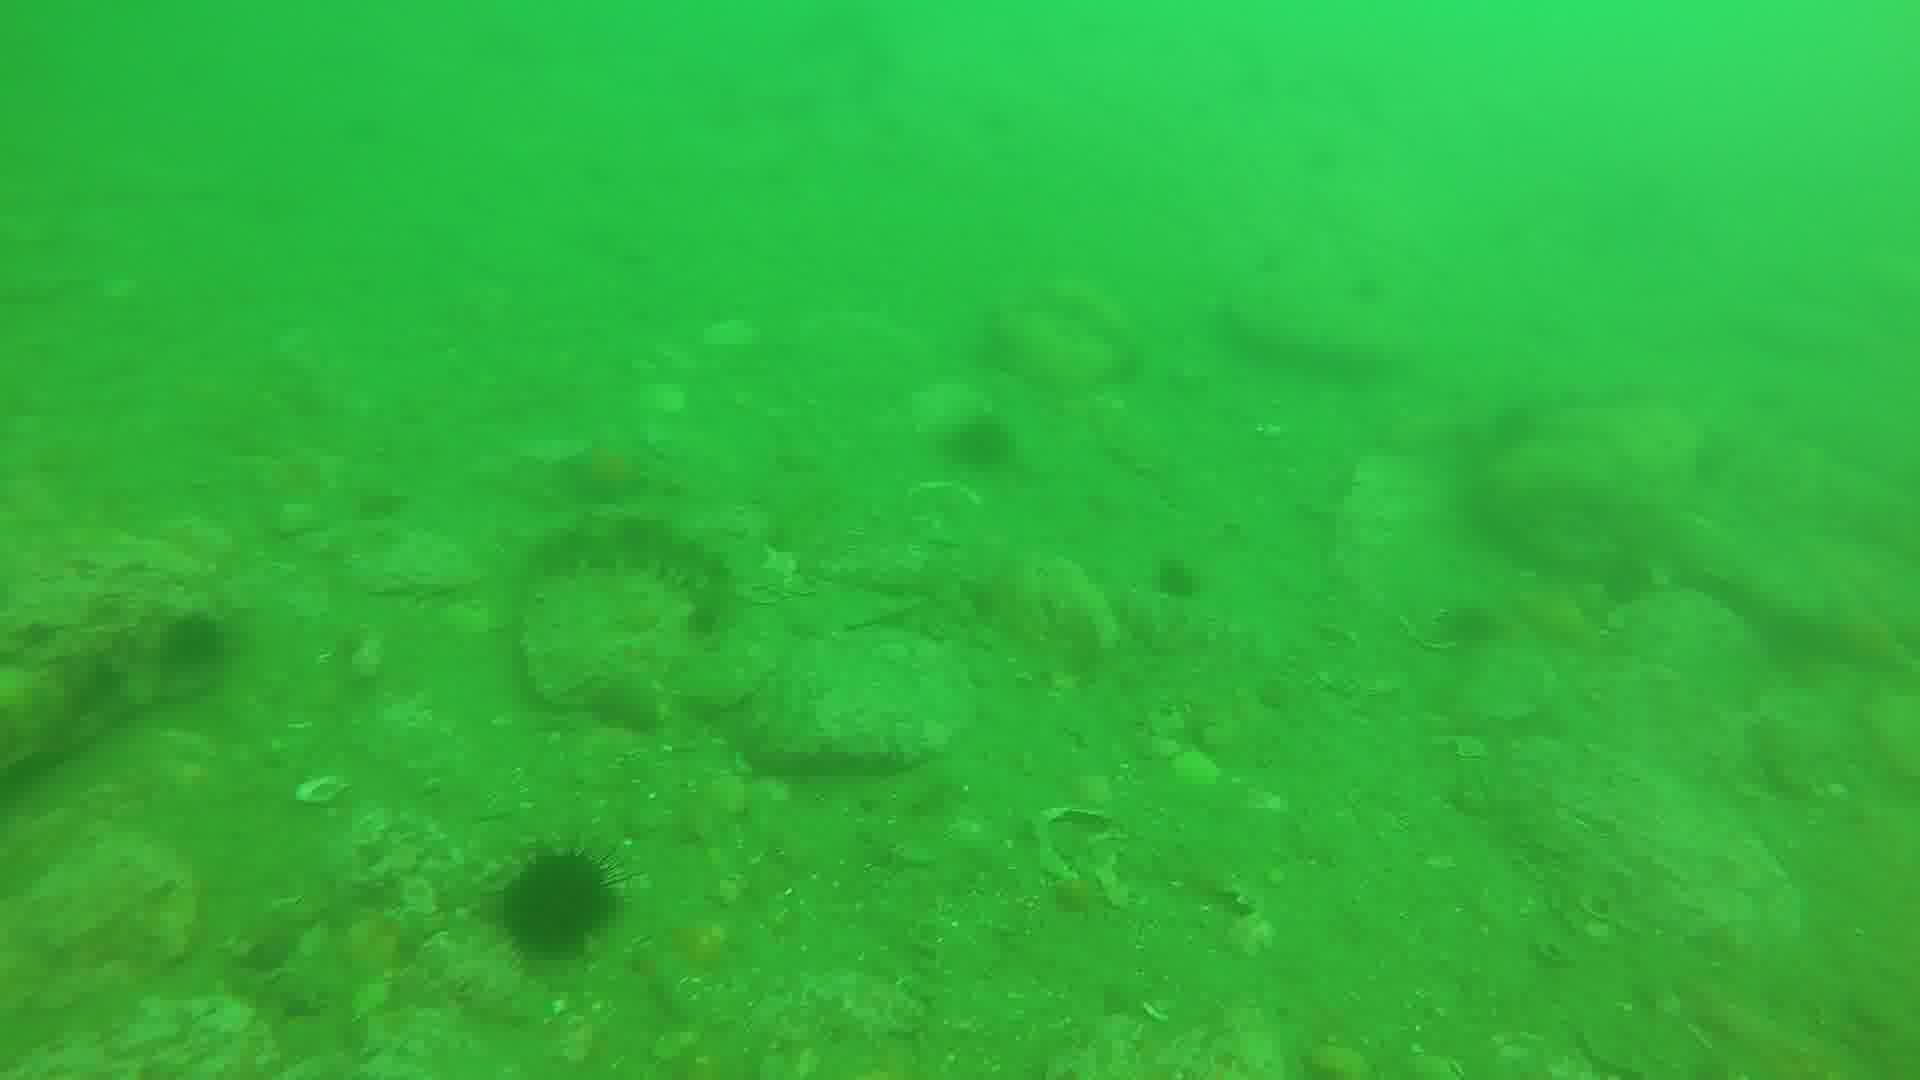echinus: (504, 848, 625, 963), (162, 609, 231, 684), (1451, 603, 1518, 661), (961, 413, 1011, 469), (1156, 555, 1199, 607)
holothurian: (533, 513, 737, 620)
scallop: (369, 518, 492, 603), (902, 386, 994, 438), (294, 775, 352, 811)
starfish: (568, 435, 658, 508)
